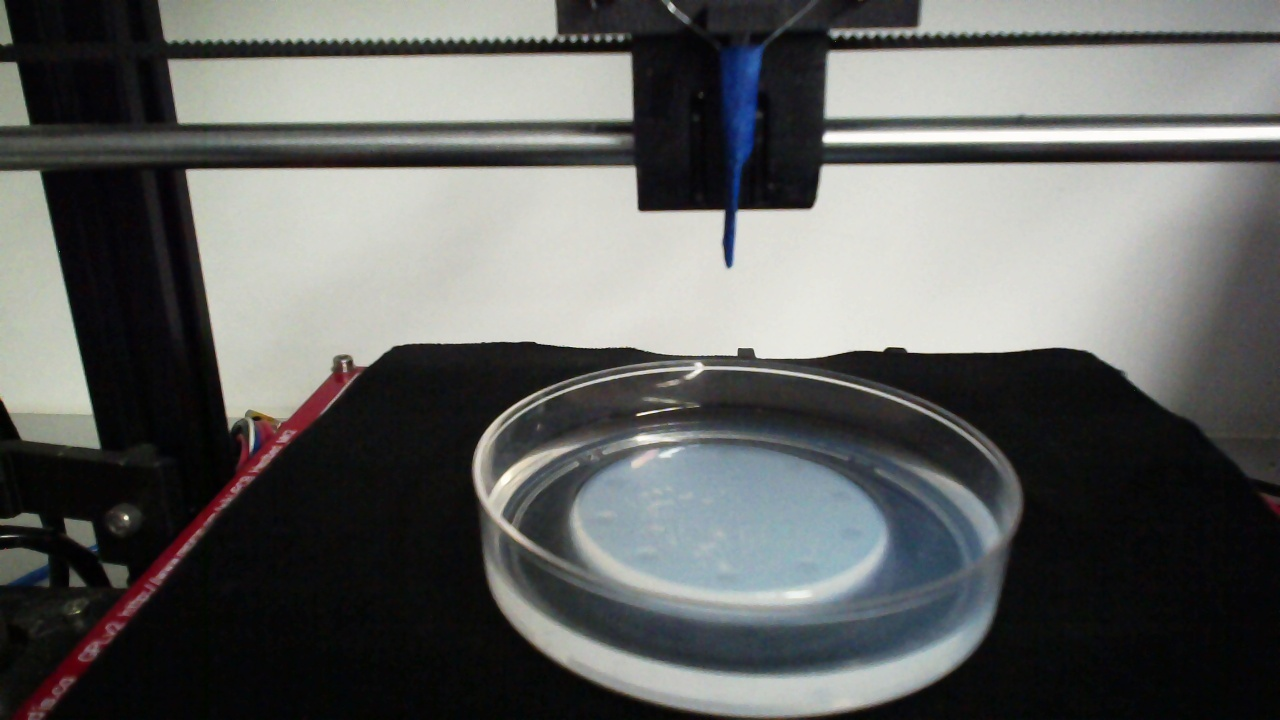groove: (711, 564, 741, 586), (836, 524, 866, 545), (602, 471, 631, 492), (631, 547, 660, 568), (795, 558, 822, 579), (591, 510, 618, 530), (827, 486, 856, 504), (782, 456, 805, 473)
needle: (722, 48, 758, 270)
